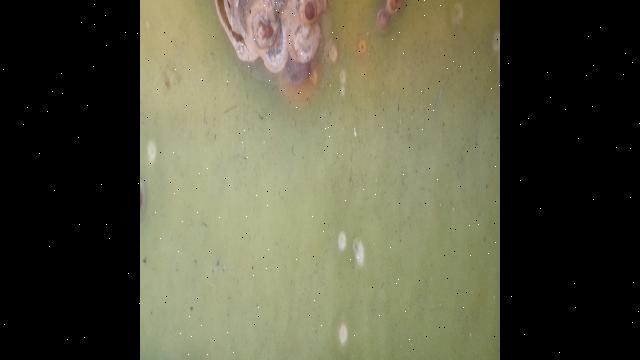stemcanker: (341, 237, 371, 273), (329, 316, 357, 352), (330, 225, 354, 256)
